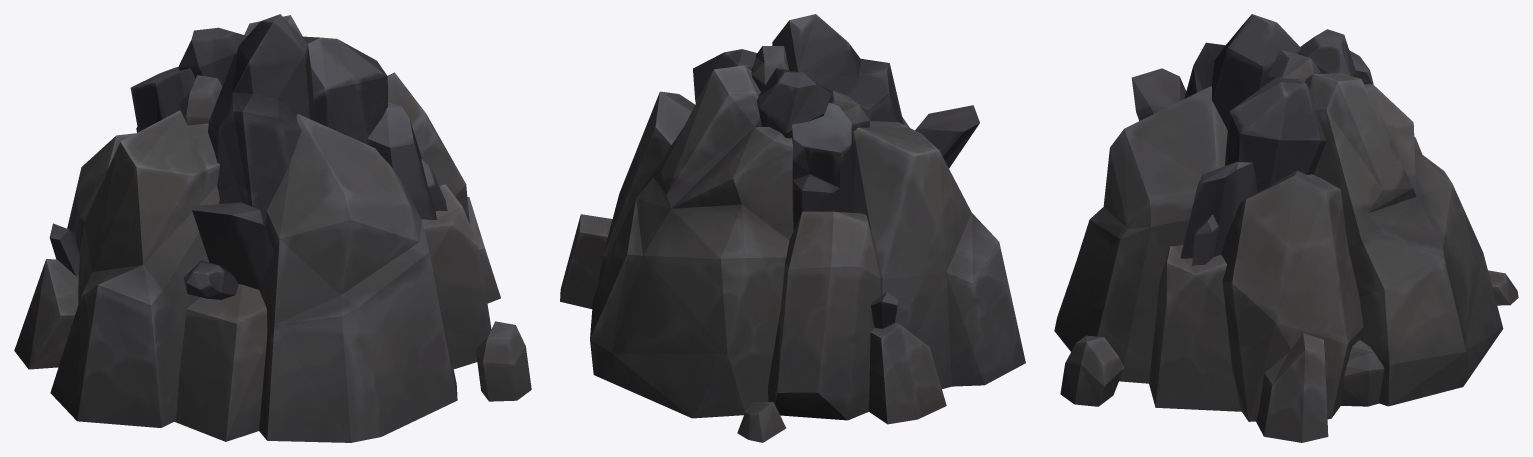
File: kuangshi.FBX
The picture shows the model from 3 angles, left to right: view 1: azimuth 30°, elevation 25°; view 2: azimuth 150°, elevation 25°; view 3: azimuth 270°, elevation 25°; orthographic projection. The views are drawn at different scales.
Visible parts, largest first — view 1: Box019; view 2: Box019; view 3: Box019.
Part boxes in pixels (x1=…): Box019: x1=14, y1=14, x2=531, y2=442; Box019: x1=560, y1=14, x2=1025, y2=442; Box019: x1=1054, y1=14, x2=1518, y2=442.
Size of the model in its own units: 1.77 by 1.24 by 1.65.
